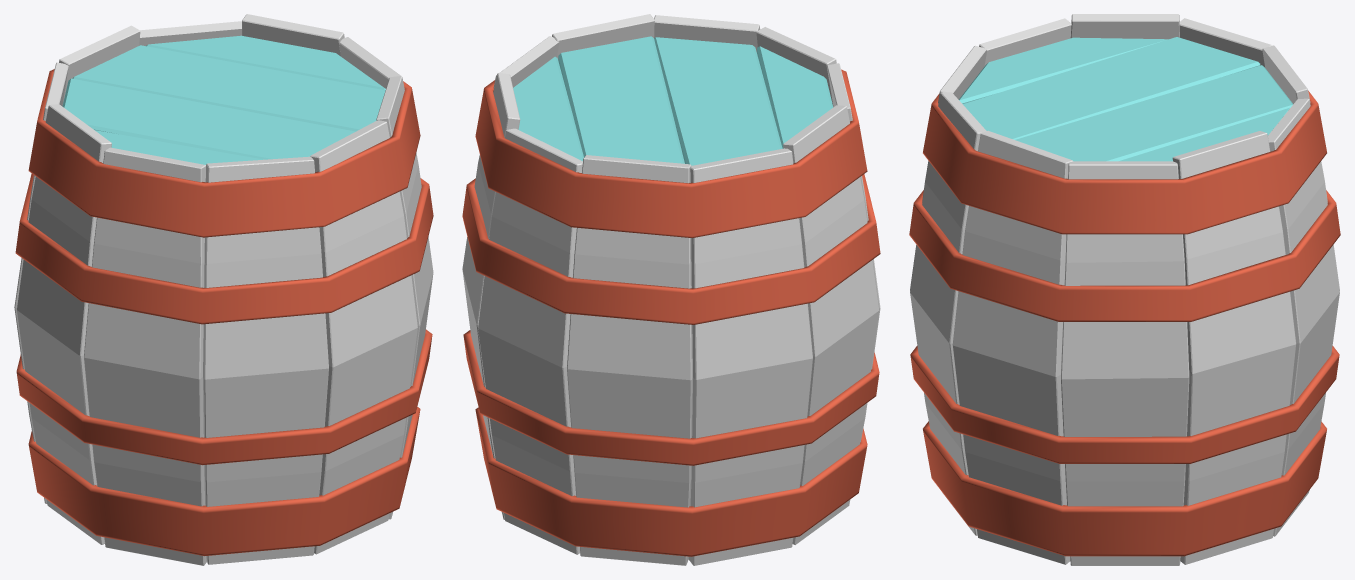
File: barrel .fbx
The picture shows the model from 3 angles, left to right: view 1: azimuth 30°, elevation 25°; view 2: azimuth 150°, elevation 25°; view 3: azimuth 270°, elevation 25°; orthographic projection.
Visible parts, largest first — view 1: Barrel Body, Barrel Rings, Barrel Lid Top; view 2: Barrel Body, Barrel Rings, Barrel Lid Top; view 3: Barrel Body, Barrel Rings, Barrel Lid Top.
Boxes of the visible parts, <box> form: Barrel Body: <box>14,14,433,565</box>; Barrel Rings: <box>15,69,433,556</box>; Barrel Lid Top: <box>62,35,385,164</box>; Barrel Body: <box>462,14,880,565</box>; Barrel Rings: <box>462,69,880,556</box>; Barrel Lid Top: <box>513,36,833,165</box>; Barrel Body: <box>910,14,1339,565</box>; Barrel Rings: <box>909,91,1340,556</box>; Barrel Lid Top: <box>959,37,1293,161</box>.
Size of the model in its own units: 93.21 by 101 by 97.65.
